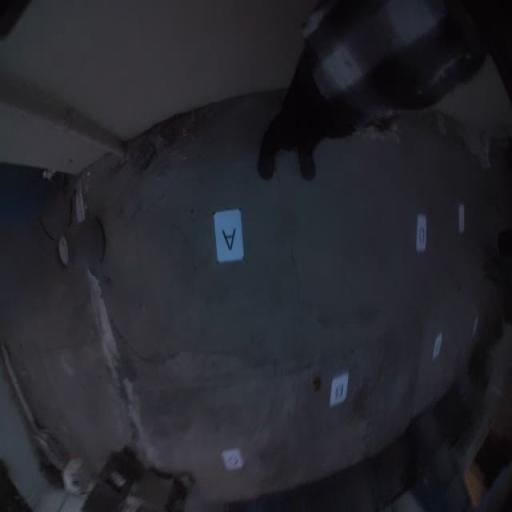A: (214, 210, 244, 263)
B: (329, 371, 349, 408)
C: (221, 448, 244, 473)
D: (416, 213, 427, 252)
E: (431, 332, 443, 362)
F: (458, 204, 464, 232)
